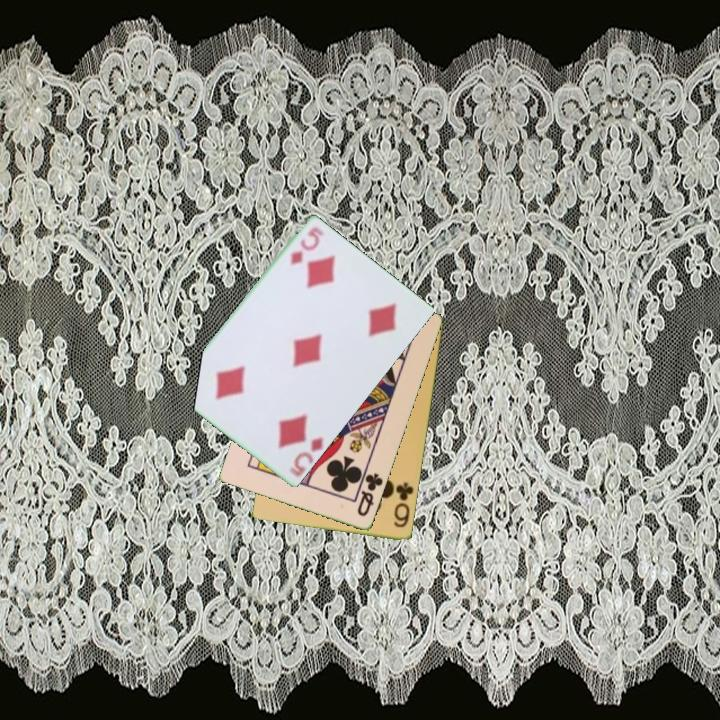5d: (286, 434, 327, 480), (287, 224, 322, 268)
6c: (390, 479, 417, 531)
Qc: (354, 470, 386, 520)
